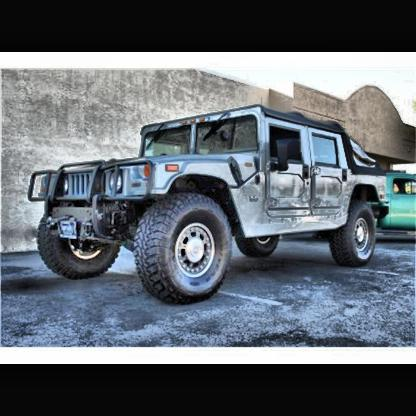AM General Hummer SUV 2000: (29, 103, 394, 307)
